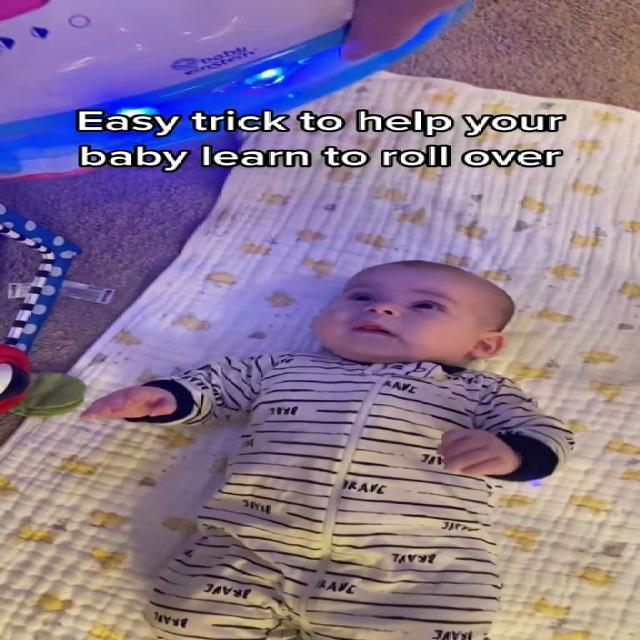baby: (81, 255, 578, 640)
